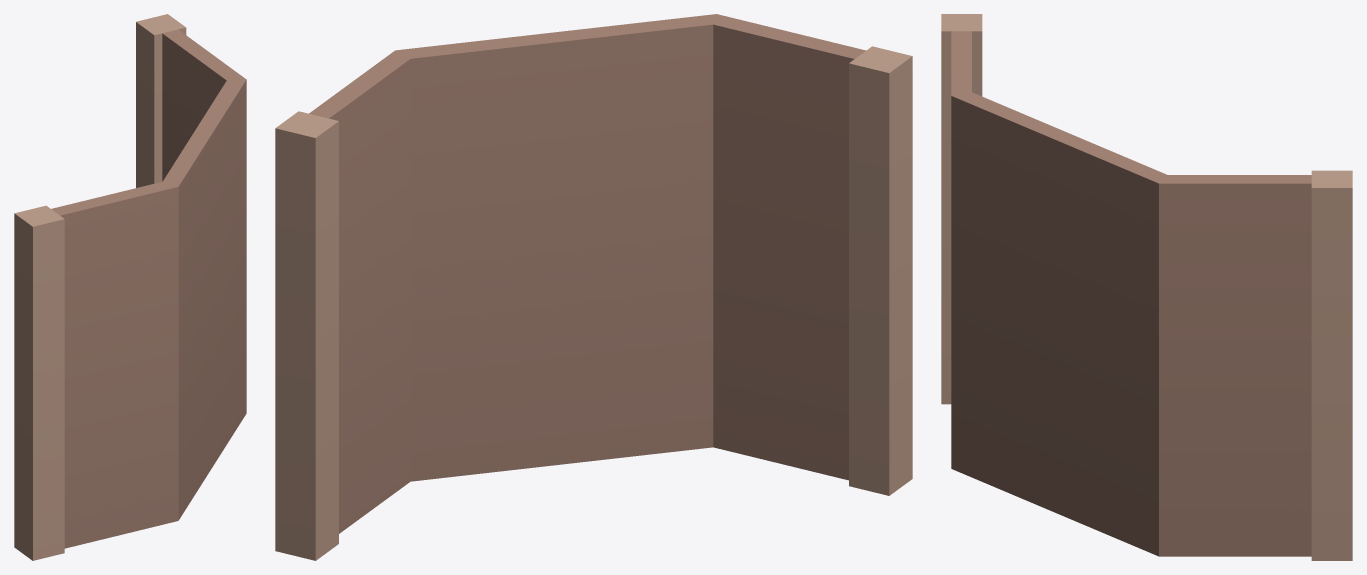
The model's file is wall-wood-corner-diagonal.glb.
The picture shows the model from 3 angles, left to right: view 1: azimuth 30°, elevation 25°; view 2: azimuth 150°, elevation 25°; view 3: azimuth 270°, elevation 25°; orthographic projection. The views are drawn at different scales.
Visible parts, largest first — view 1: wall-wood-corner-diagonal; view 2: wall-wood-corner-diagonal; view 3: wall-wood-corner-diagonal.
Part boxes in pixels (x1=…): wall-wood-corner-diagonal: x1=14, y1=14, x2=246, y2=560; wall-wood-corner-diagonal: x1=275, y1=14, x2=912, y2=560; wall-wood-corner-diagonal: x1=941, y1=14, x2=1352, y2=560.
Size of the model in its own units: 1 by 1 by 1.
